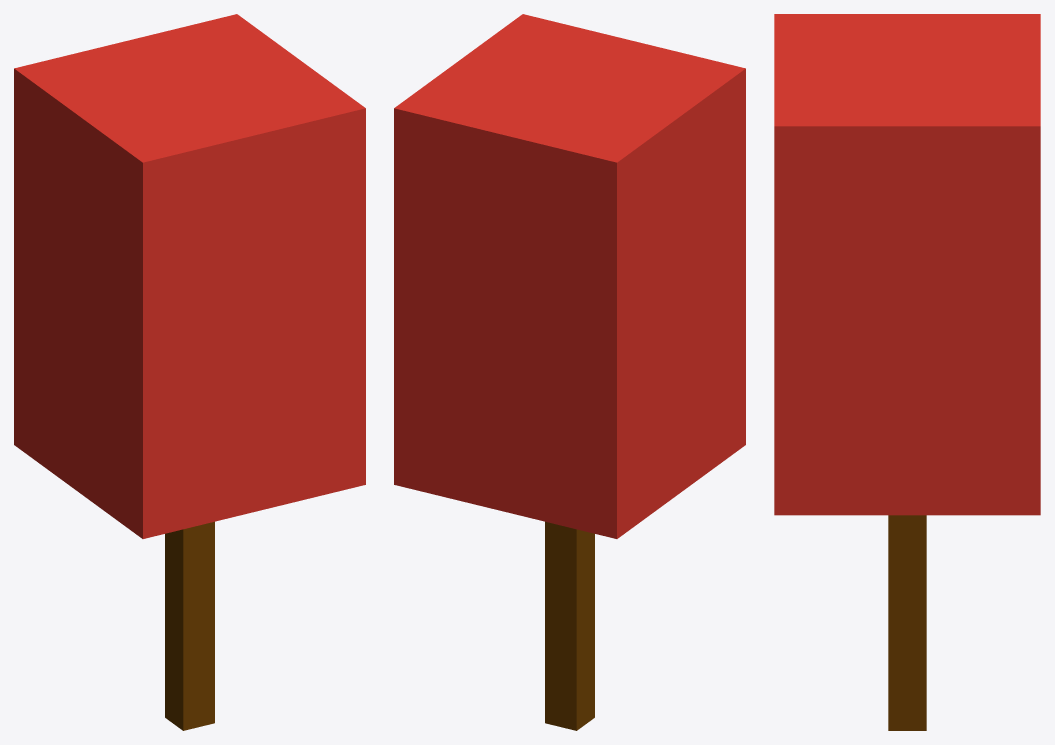
The model's file is tree5.fbx.
3 views of the same model, side by side, from view 1: azimuth 30°, elevation 25°; view 2: azimuth 150°, elevation 25°; view 3: azimuth 270°, elevation 25° (orthographic). The views are drawn at different scales.
Visible parts, largest first — view 1: tree.004; view 2: tree.004; view 3: tree.004.
Boxes of the visible parts, <box> form: tree.004: <box>14,14,365,730</box>; tree.004: <box>394,14,745,730</box>; tree.004: <box>774,14,1040,730</box>.
Size of the model in its own units: 700 by 1895 by 700.
